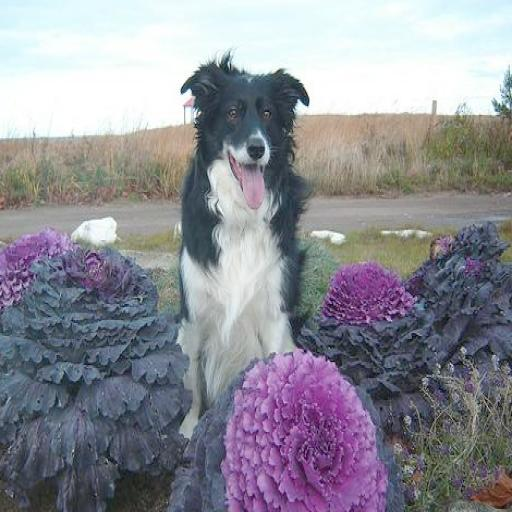dog_face: (182, 50, 311, 220)
